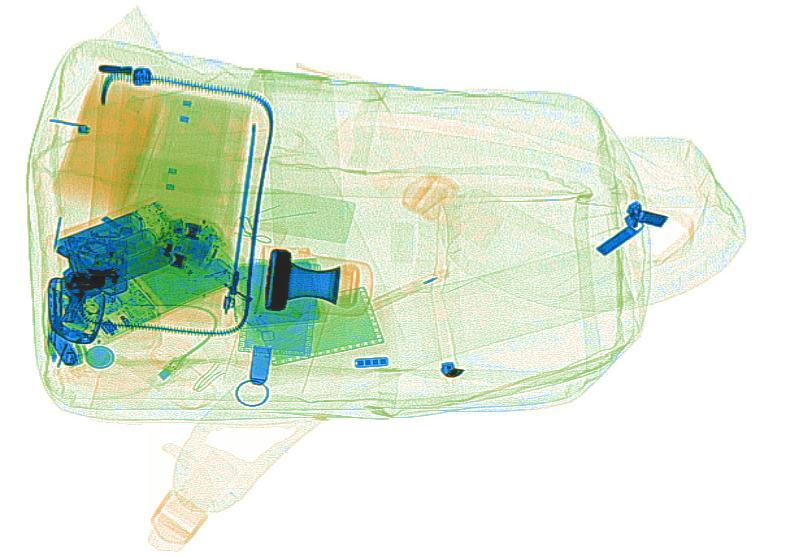battery: (56, 198, 183, 297)
seal: (263, 246, 362, 313)
